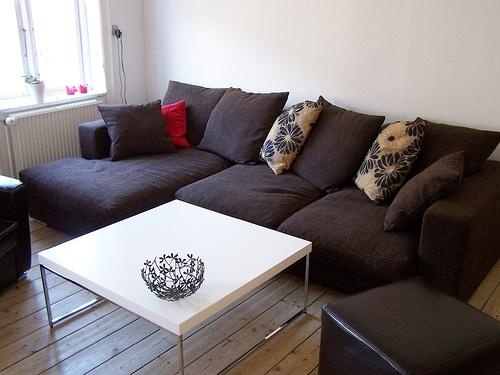chair: (1, 174, 32, 298)
sofa: (21, 82, 500, 305)
